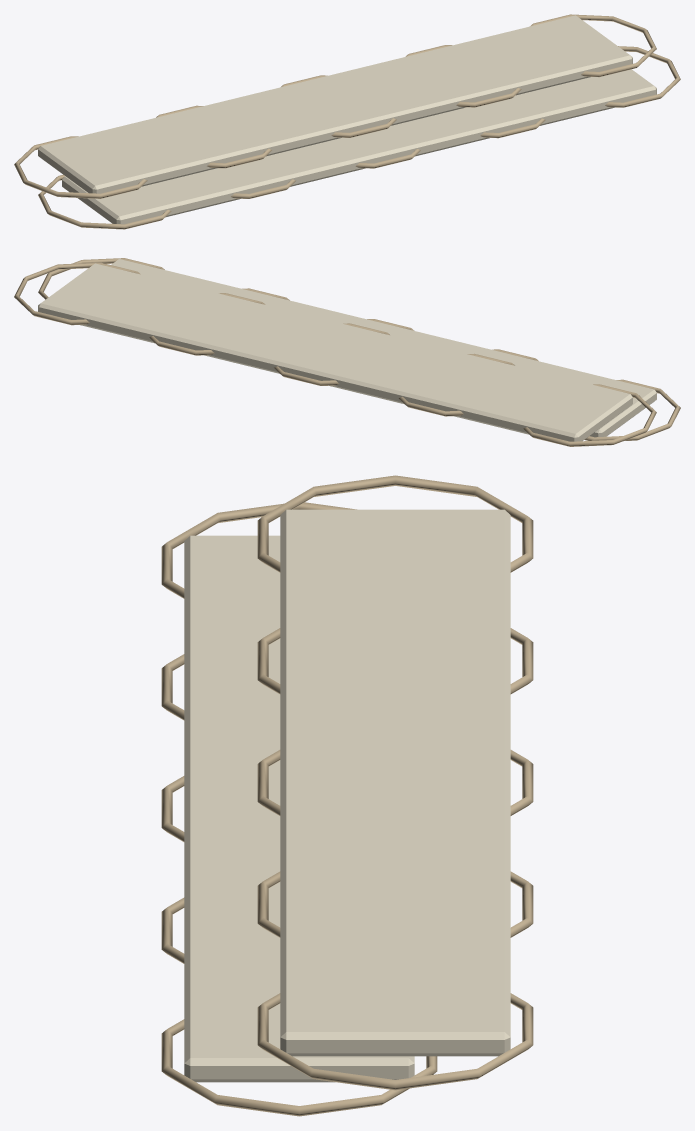
The model's file is dagger_boards.glb.
3 views of the same model, one above another, from view 1: azimuth 30°, elevation 25°; view 2: azimuth 150°, elevation 25°; view 3: azimuth 270°, elevation 25° (orthographic). The views are drawn at different scales.
Parts seen in each view (by area): view 1: Dagger_Boards; view 2: Dagger_Boards; view 3: Dagger_Boards.
Part boxes in pixels (x1,y1,x2,y2): Dagger_Boards: [14, 14, 680, 229]; Dagger_Boards: [14, 258, 680, 446]; Dagger_Boards: [161, 475, 533, 1116].
Bounding box in the file's own units: 1.5 × 0.058 × 0.3872.
